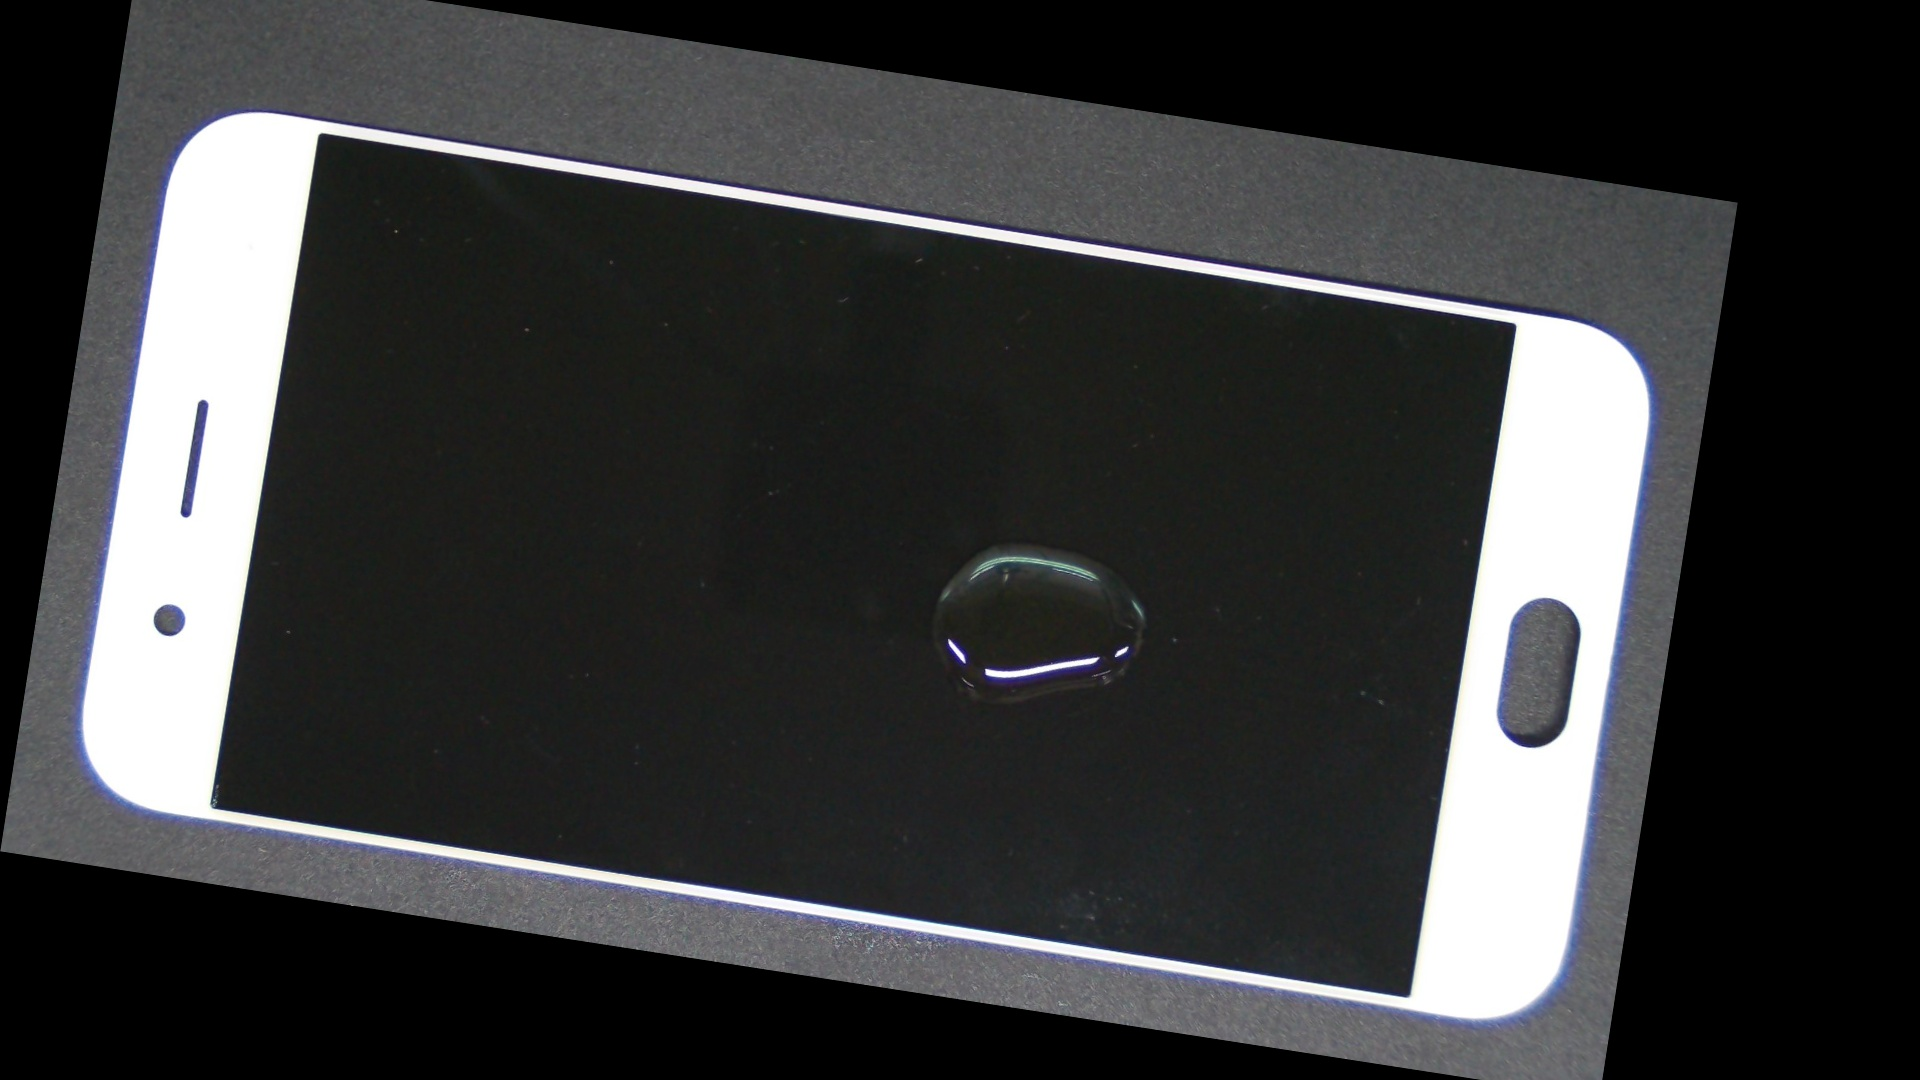oil: (530, 252, 1585, 844)
